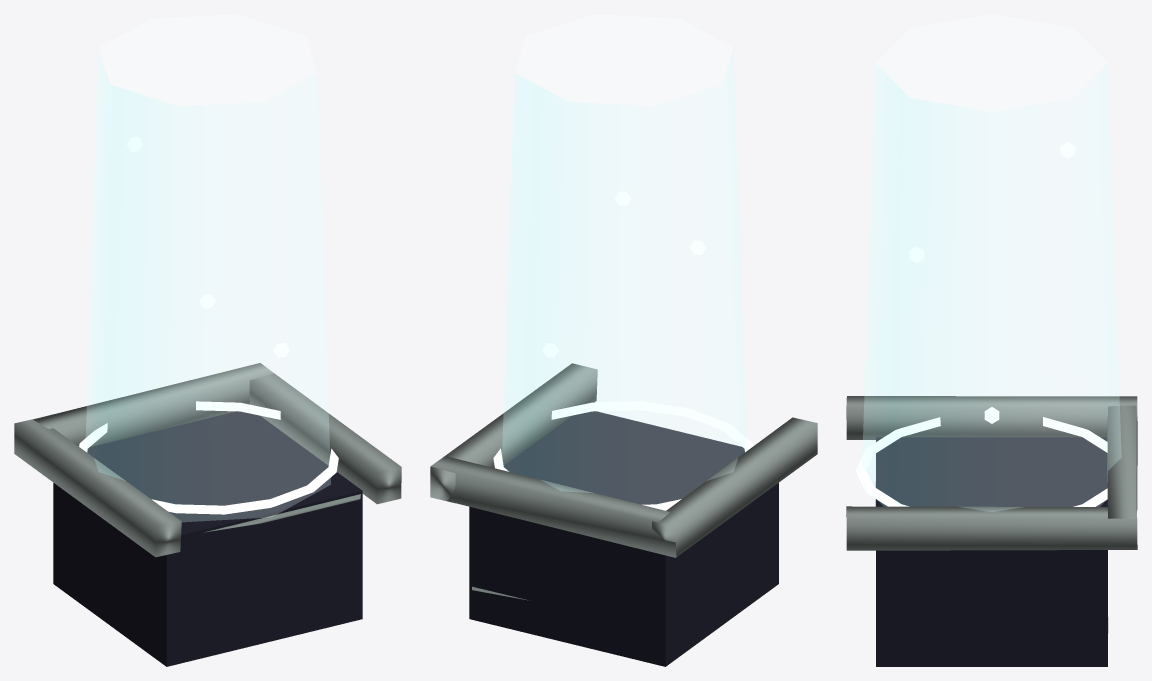
The model's file is stage1_stairs_down.glb.
3 renders of one model, left to right at view 1: azimuth 30°, elevation 25°; view 2: azimuth 150°, elevation 25°; view 3: azimuth 270°, elevation 25°, orthographic. The views are drawn at different scales.
Parts seen in each view (by area): view 1: beam_stairBeam, stage1_stairs_down_pit, stage1_stairs_down_stone, beam_stairRing, stage1_stairs_down_stone2; view 2: beam_stairBeam, stage1_stairs_down_pit, stage1_stairs_down_stone, beam_stairRing; view 3: beam_stairBeam, stage1_stairs_down_pit, stage1_stairs_down_stone, beam_stairRing, beam_stairMote.
Boxes of the visible parts, x1,y1,x2,y2 form: beam_stairBeam: [86, 14, 330, 521]; stage1_stairs_down_pit: [53, 411, 362, 666]; stage1_stairs_down_stone: [14, 363, 401, 557]; beam_stairRing: [79, 401, 338, 514]; stage1_stairs_down_stone2: [205, 494, 360, 532]; beam_stairBeam: [502, 14, 746, 505]; stage1_stairs_down_pit: [469, 411, 778, 666]; stage1_stairs_down_stone: [430, 363, 817, 557]; beam_stairRing: [493, 401, 752, 510]; beam_stairBeam: [862, 14, 1121, 511]; stage1_stairs_down_pit: [876, 437, 1107, 666]; stage1_stairs_down_stone: [846, 396, 1137, 550]; beam_stairRing: [855, 417, 1107, 506]; beam_stairMote: [909, 141, 1075, 423].
Bounding box in the file's own units: 1 × 2.11 × 1.
